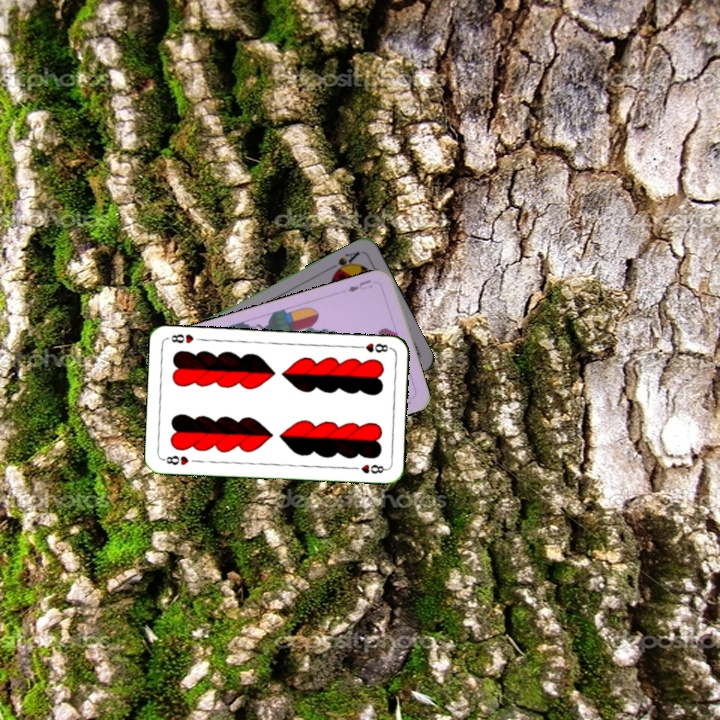EU: (343, 276, 375, 295)
H8: (353, 339, 393, 355), (159, 451, 191, 468)
SA: (325, 247, 363, 277)
